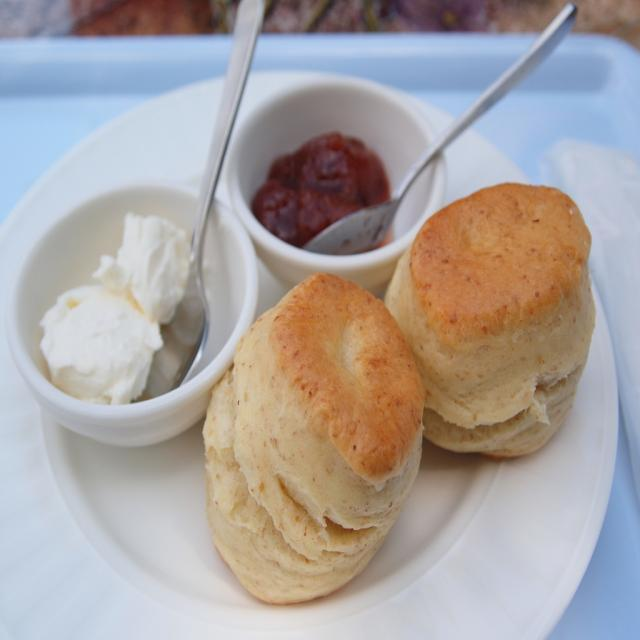Ice cream: (24, 238, 186, 428)
